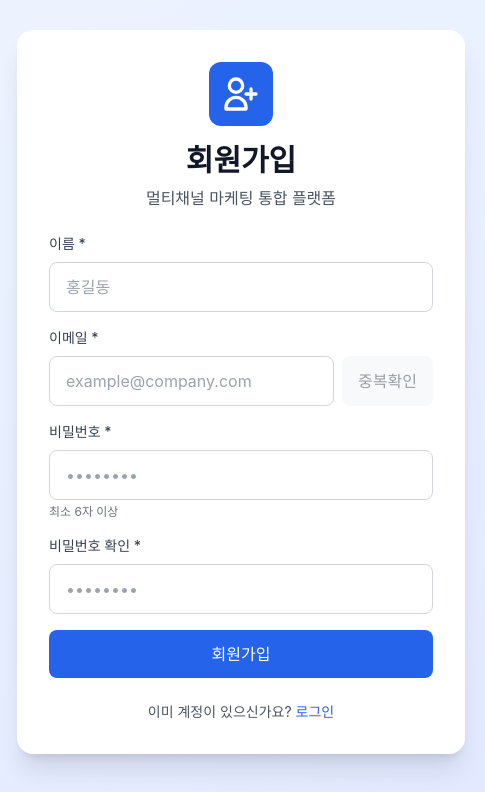
Test case: RegisterPage › 5. 중복확인 클릭 → 이미 사용 중인 이메일 → XCircle(빨간) 메시지 표시
The image size is (485, 792).
Step 1. Type "taken@test.com" into the field labelled "이메일 *" → coordinates (192, 381), box left=49, top=356, right=334, bottom=406
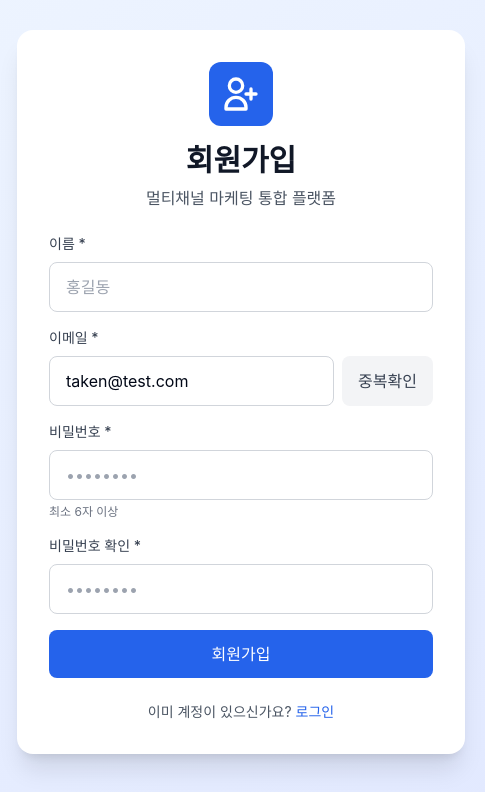
Step 2. Click the button "중복확인" → coordinates (388, 381), box left=342, top=356, right=433, bottom=406
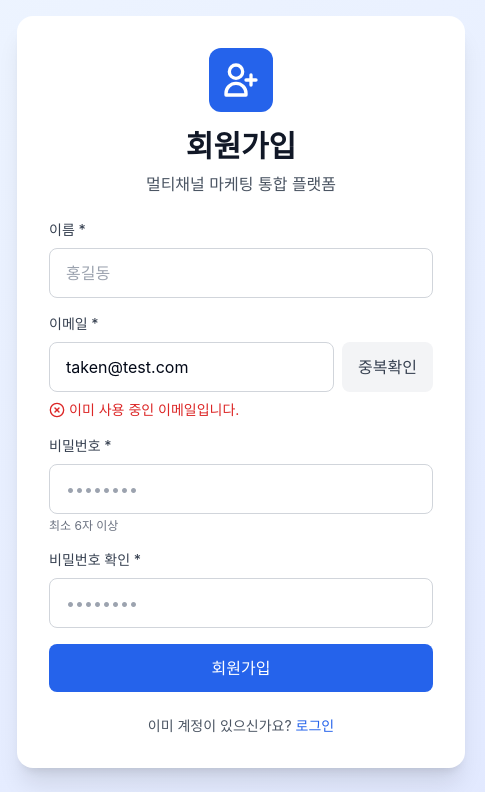
Expected: the text "이미 사용 중인 이메일입니다." is shown, left=69, top=400, right=239, bottom=420
